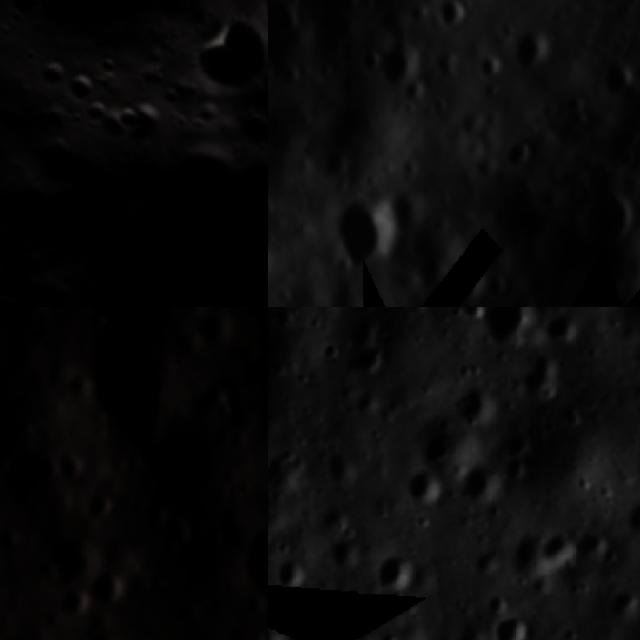crater: (0, 17, 268, 307), (58, 318, 198, 459), (0, 0, 172, 69), (313, 176, 411, 284), (148, 422, 245, 516), (180, 31, 259, 111), (569, 176, 640, 254), (99, 86, 172, 158), (222, 506, 268, 619), (504, 19, 564, 85), (586, 49, 640, 107), (81, 564, 137, 618), (346, 318, 402, 372), (52, 61, 106, 115), (189, 307, 243, 355), (47, 579, 98, 627), (49, 446, 96, 492), (154, 512, 200, 554), (429, 0, 477, 39), (28, 54, 71, 97), (569, 275, 626, 307), (233, 109, 268, 161), (27, 449, 69, 492), (495, 134, 537, 176), (482, 307, 533, 340), (81, 492, 120, 529), (76, 307, 119, 340), (402, 465, 439, 503), (379, 553, 416, 590), (138, 498, 174, 536), (453, 388, 497, 418), (539, 532, 576, 565), (490, 612, 533, 640), (0, 307, 66, 324), (333, 529, 365, 563), (210, 396, 242, 428), (3, 457, 32, 491), (269, 562, 307, 584), (464, 468, 489, 501), (510, 428, 542, 453), (498, 459, 529, 481), (326, 626, 366, 640), (268, 620, 288, 640), (628, 503, 640, 532), (615, 630, 636, 640)
